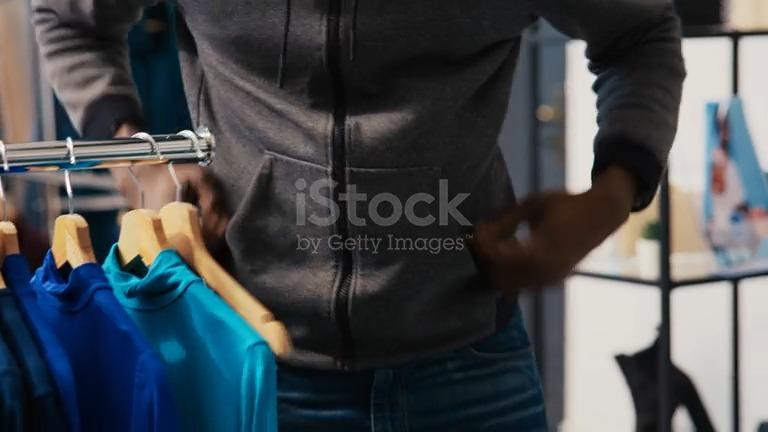Shoplifting: (92, 1, 628, 432)
